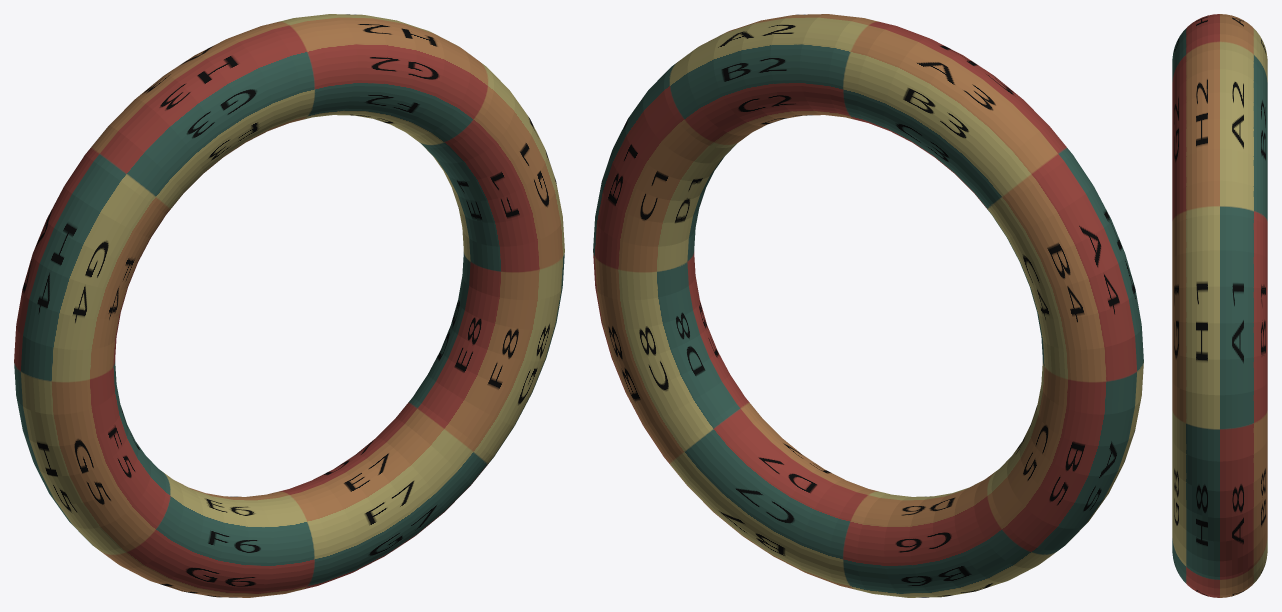
Rendered from texture_torus_R23_r11.glb.
3 renders of one model, left to right at view 1: azimuth 30°, elevation 25°; view 2: azimuth 150°, elevation 25°; view 3: azimuth 270°, elevation 25°, orthographic. The views are drawn at different scales.
Parts seen in each view (by area): view 1: world; view 2: world; view 3: world.
Boxes of the visible parts, x1,y1,x2,y2 form: world: [14, 14, 564, 597]; world: [593, 14, 1143, 597]; world: [1172, 14, 1267, 597].
Bounding box in the file's own units: 30.27 × 30.21 × 4.92.
Materials: 1 (1 with a texture image).
